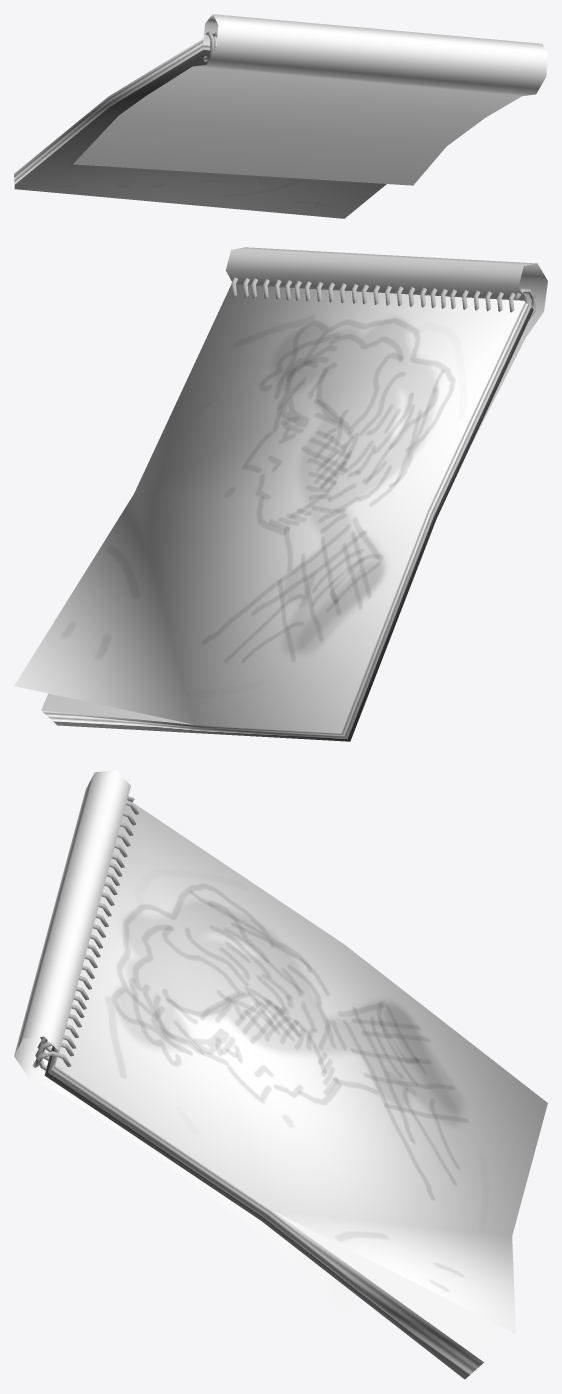
File: obj_Sketchbook.fbx
3 renders of one model, top to bottom at view 1: azimuth 30°, elevation 25°; view 2: azimuth 150°, elevation 25°; view 3: azimuth 270°, elevation 25°, orthographic. The views are drawn at different scales.
Visible parts, largest first — view 1: obj_Sketchbook; view 2: obj_Sketchbook; view 3: obj_Sketchbook.
Part boxes in pixels (x1,y1,x2,y2): obj_Sketchbook: (14, 14, 547, 218); obj_Sketchbook: (14, 247, 547, 741); obj_Sketchbook: (14, 770, 547, 1379).
Size of the model in its own units: 0.4395 by 0.5029 by 0.5424.
1 material, 1 textured.
